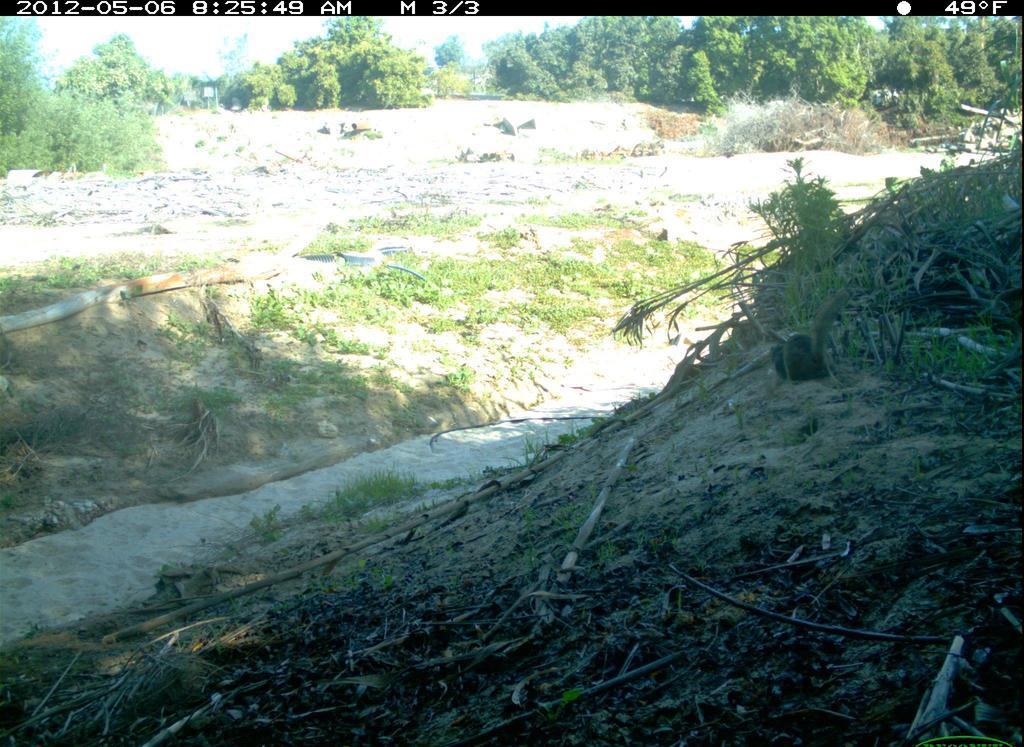squirrel: (777, 308, 850, 391)
